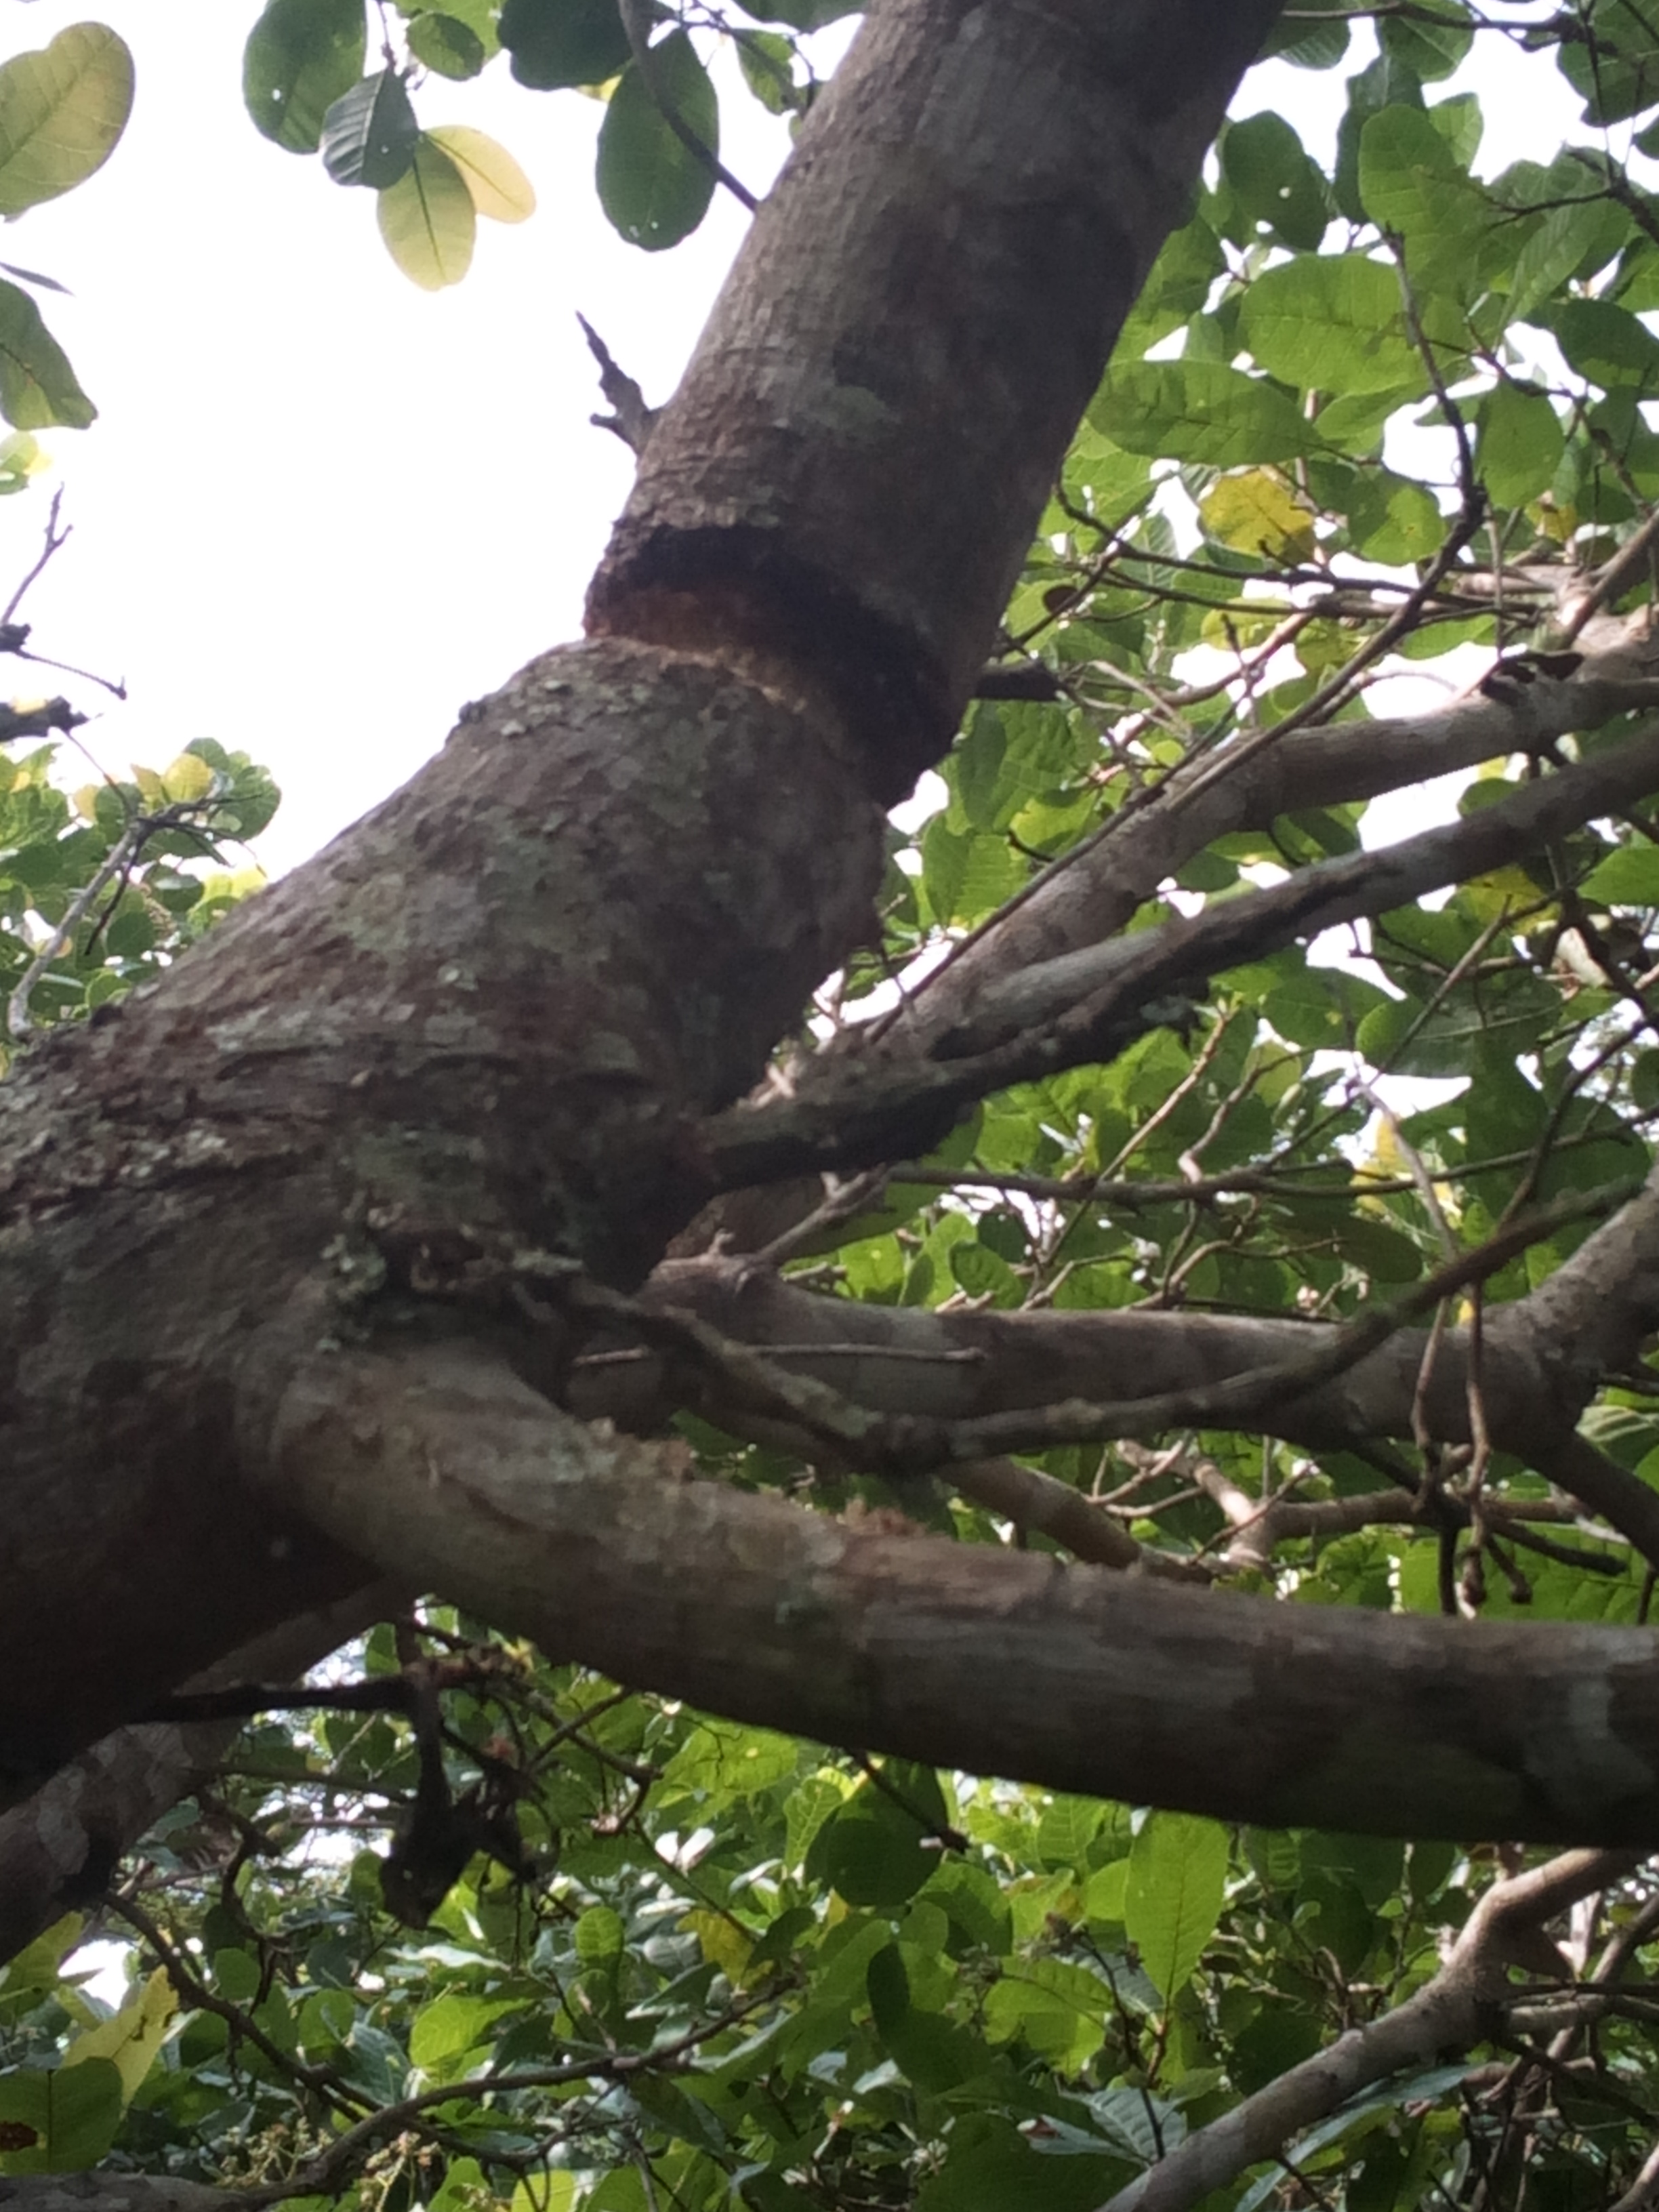Analepse trifasciata: (545, 486, 1049, 892)
